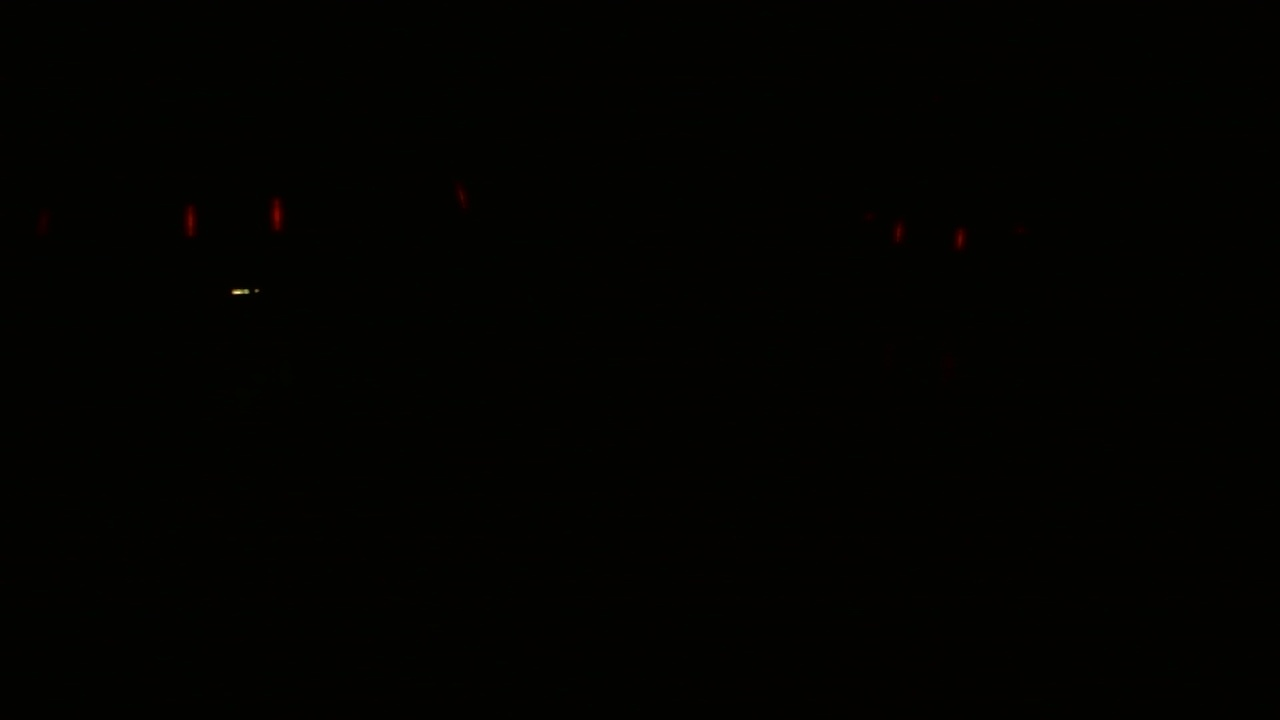pair1: (181, 196, 288, 239), (889, 219, 973, 253)
